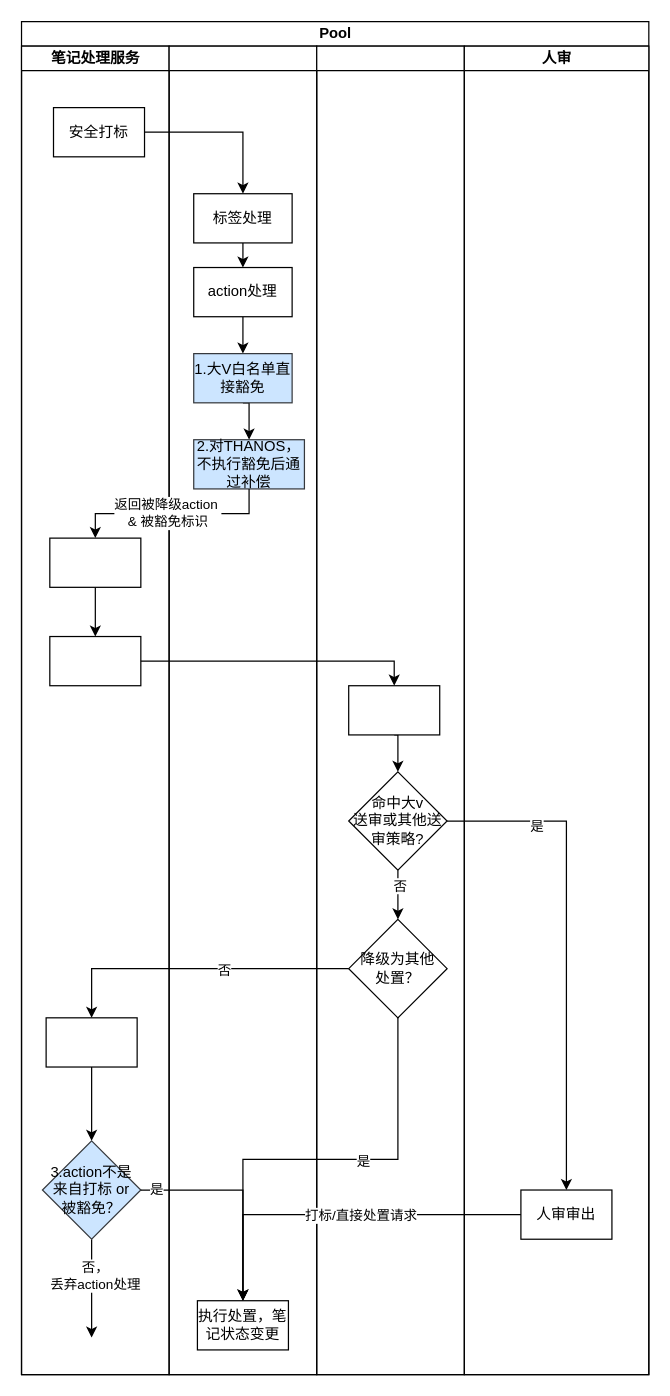
Some shapes in this 670 by 1396 pixel diagram are drawn without their labels. The box of each missing label's shape, as (x1, y1, x2, y2) in pixels:
action优先级pk: (49, 537, 141, 587)
准备执行 原action处置: (45, 1017, 137, 1067)
处置中心: (168, 45, 317, 1375)
安全action决策: (49, 635, 141, 686)
笔记决策/降级场景: (315, 45, 464, 1375)
规则引擎决策: (347, 684, 440, 735)
